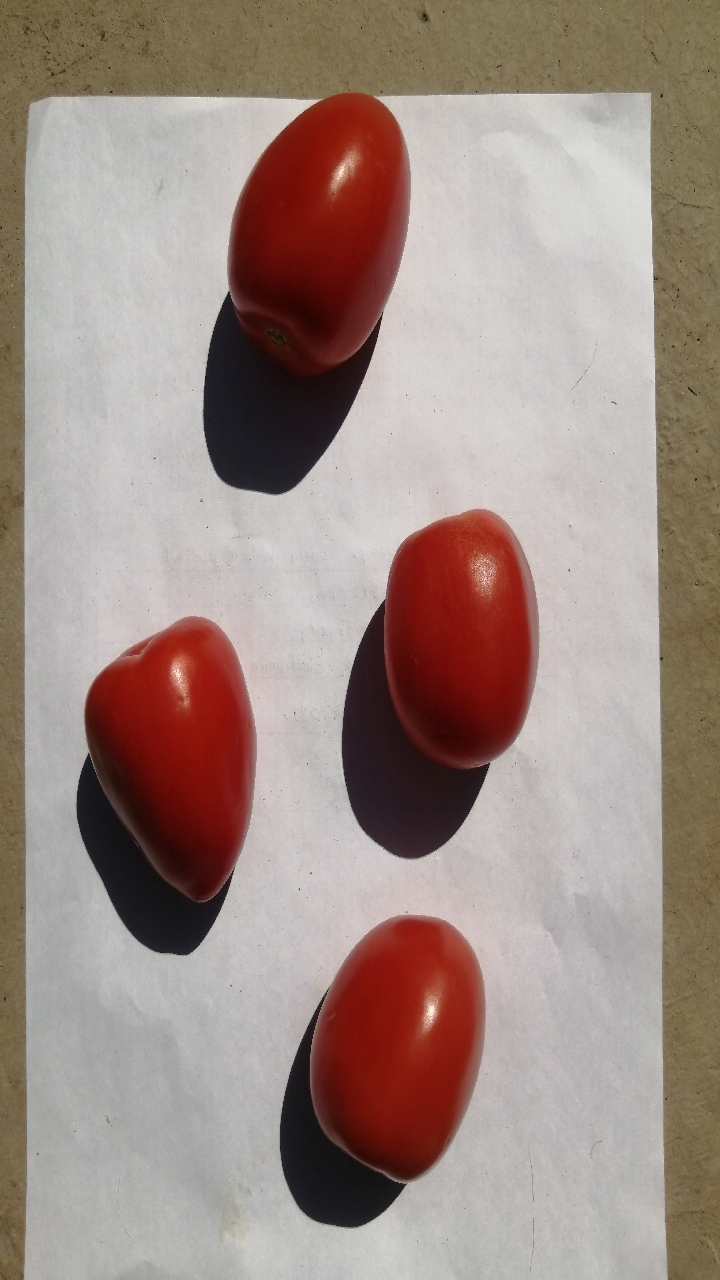tomateRojo: (288, 894, 500, 1212), (63, 599, 260, 928), (212, 80, 420, 389), (366, 500, 558, 800)
